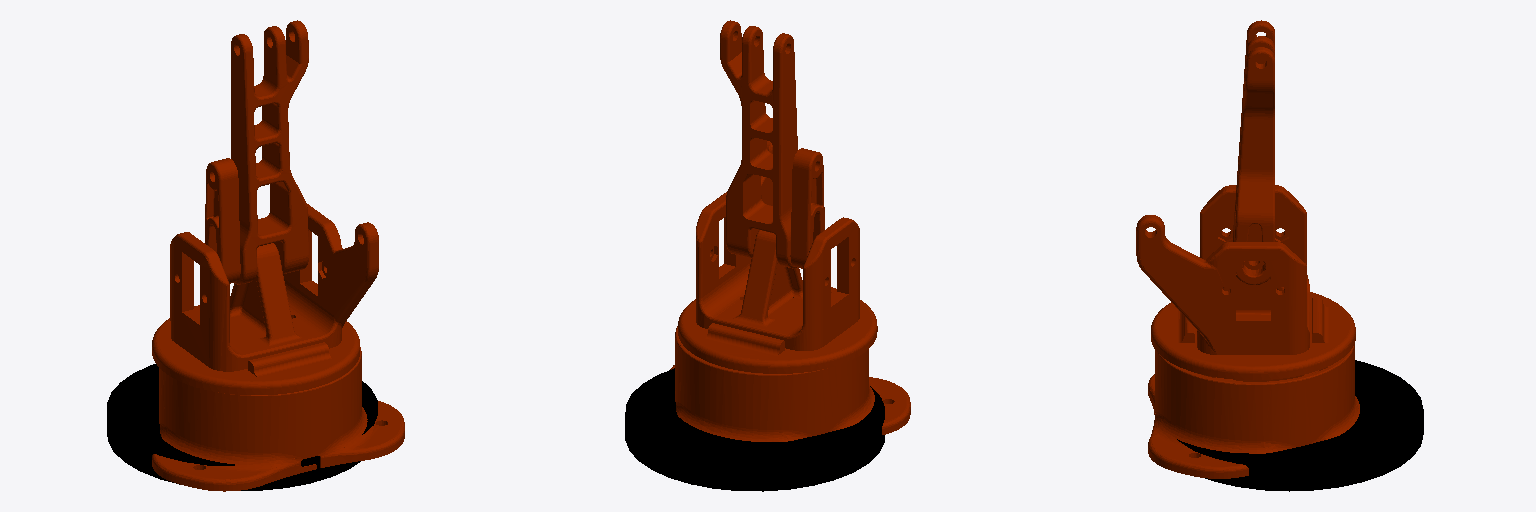
The robot description file, URDF, robot "visual":
<?xml version="1.0"?>
<robot name="visual">
    <link name="base_link">
        <visual>
            <geometry>
                <cylinder length="0.01" radius="0.047" />
            </geometry>
            <material name="black" />
            <origin rpy="0 0 0" xyz="0 0.006 0" />
        </visual>
    </link>
    <link name="arm_base_link">
        <visual>
            <geometry>
                <mesh filename="package://rtest/meshes/eezybotarm_base.stl" scale="0.001 0.001 0.001" />
            </geometry>
            <material name="orange" />
            <origin rpy="0 0 3.1416" xyz="0 0 0" />
        </visual>
    </link>
    <link name="arm_rotate_base_link">
        <visual>
            <geometry>
                <mesh filename="package://rtest/meshes/eezybotarm_rotate_base.stl" scale="0.001 0.001 0.001" />
            </geometry>
            <material name="orange" />
            <origin rpy="0 0 0" xyz="0.000 0.000 0" />
        </visual>
    </link>

    <link name="arm_forward_drive_link">
        <visual>
            <geometry>
                <mesh filename="package://rtest/meshes/eezybotarm_forward_drive.stl" scale="0.001 0.001 0.001" />
            </geometry>
            <material name="orange" />
            <origin rpy="0 0 0" xyz="0 0 0" />
        </visual>
    </link>

    <link name="arm_vertical_drive_link">
        <visual>
            <geometry>
                <mesh filename="package://rtest/meshes/eezybotarm_vertical_drive.stl" scale="0.001 0.001 0.001" />
            </geometry>
            <material name="orange" />
            <origin rpy="0 0 0" xyz="0 0 0" />
        </visual>
    </link>

    <joint name="base_joint" type="fixed">
        <axis xyz="0 0 -1" />
        <limit effort="1000.0" lower="0.0" upper="3.1416" velocity="1.0" />
        <origin rpy="0 0 0" xyz="0 0 0" />
        <parent link="base_link" />
        <child link="arm_base_link" />
    </joint>

    <joint name="rotate_base_joint" type="revolute">
        <axis xyz="0 0 1" />
        <limit effort="1000.0" lower="0.0" upper="3.1416" velocity="1.0" />
        <origin rpy="0 0 0" xyz="0.002 0.006 0.032" />
        <parent link="arm_base_link" />
        <child link="arm_rotate_base_link" />
    </joint>

    <joint name="forward_drive_joint" type="revolute">
        <axis xyz="1 0 0" />
        <limit effort="1000.0" lower="0" upper="3.1416" velocity="1.0" />
        <origin rpy="-1.5708 -1.5708 3.14159" xyz="0.0015 -0.005 0.074" />
        <parent link="arm_rotate_base_link" />
        <child link="arm_forward_drive_link" />
    </joint>

    <joint name="vertical_drive_joint" type="revolute">
        <axis xyz="1 0 0" />
        <limit effort="1000.0" lower="0" upper="3.1416" velocity="1.0" />
        <origin rpy="1.5708 1.5708 -1.5708" xyz="-0.0135 -0.012 0.052" />
        <parent link="arm_rotate_base_link" />
        <child link="arm_vertical_drive_link" />
    </joint>

    <material name="orange">
        <color rgba="0.57 0.17 0.0 1" />
    </material>
    <material name="white">
        <color rgba="0.8 0.8 0.8 1.0" />
    </material>
    <material name="black">
        <color rgba="0 0 0 0.50" />
    </material>
</robot>

--- Facts derived from the render (not from the file) ---
Views: 3 orthographic renders of the robot side by side, from view 1: azimuth 30°, elevation 25°; view 2: azimuth 150°, elevation 25°; view 3: azimuth 270°, elevation 25°.
Model visual with 5 links and 4 joints (3 revolute, 1 fixed), rooted at base_link, posed every joint at zero.
Links seen in each view (by area): view 1: arm_rotate_base_link, arm_base_link, arm_forward_drive_link, base_link, arm_vertical_drive_link; view 2: arm_rotate_base_link, base_link, arm_base_link, arm_forward_drive_link, arm_vertical_drive_link; view 3: arm_rotate_base_link, arm_base_link, base_link, arm_forward_drive_link.
Boxes of the visible links, box(x1,y1,x2,y2) form: arm_rotate_base_link: box(152, 204, 378, 394); arm_base_link: box(152, 347, 404, 491); arm_forward_drive_link: box(231, 20, 308, 284); base_link: box(107, 364, 377, 490); arm_vertical_drive_link: box(205, 158, 240, 283); arm_rotate_base_link: box(678, 141, 877, 373); base_link: box(625, 368, 884, 491); arm_base_link: box(670, 326, 910, 441); arm_forward_drive_link: box(720, 20, 797, 268); arm_vertical_drive_link: box(790, 148, 824, 268); arm_rotate_base_link: box(1136, 185, 1355, 379); arm_base_link: box(1148, 344, 1359, 478); base_link: box(1177, 360, 1423, 491); arm_forward_drive_link: box(1233, 20, 1274, 284).
Bounding box of the posed robot: 0.0947 × 0.1008 × 0.1572 m (x, y, z).
4 mesh visuals loaded from 4 distinct referenced files (4 binary STL).